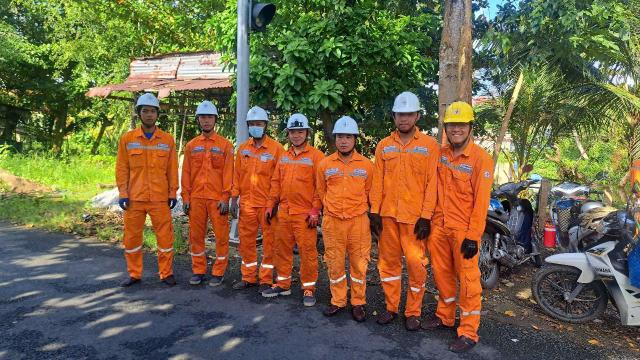gloves: (405, 211, 436, 244), (456, 237, 481, 263), (364, 208, 384, 236), (301, 207, 318, 233), (259, 204, 275, 227), (178, 197, 194, 218), (215, 197, 231, 217), (227, 202, 241, 222), (119, 194, 132, 210), (168, 198, 178, 210), (115, 195, 124, 207)
helmet: (438, 96, 479, 129), (134, 87, 169, 112), (331, 115, 365, 140), (390, 90, 424, 115), (285, 111, 315, 135), (195, 95, 220, 123), (242, 106, 272, 127)
shoes: (371, 303, 400, 331), (448, 331, 479, 355), (416, 313, 452, 331), (262, 280, 292, 301), (297, 286, 319, 311), (348, 300, 370, 324), (406, 308, 424, 337), (200, 272, 228, 288), (184, 270, 206, 288), (233, 273, 253, 292), (324, 298, 340, 320), (116, 273, 138, 288), (157, 274, 180, 287), (255, 277, 268, 296)
